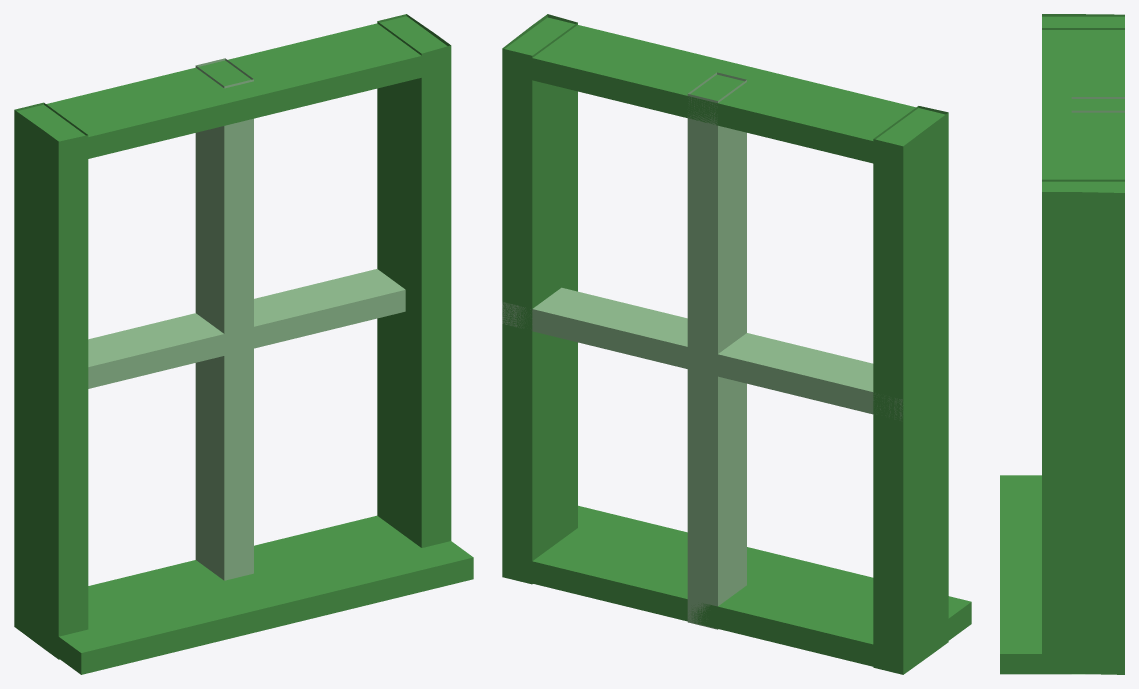
The model's file is SM_WindowFrame_withoutGlass.fbx.
The picture shows the model from 3 angles, left to right: view 1: azimuth 30°, elevation 25°; view 2: azimuth 150°, elevation 25°; view 3: azimuth 270°, elevation 25°; orthographic projection. The views are drawn at different scales.
Visible parts, largest first — view 1: SM_WindowFrameWithoutGlass; view 2: SM_WindowFrameWithoutGlass; view 3: SM_WindowFrameWithoutGlass.
Part boxes in pixels (<box>): SM_WindowFrameWithoutGlass: <box>14,14,473,674</box>; SM_WindowFrameWithoutGlass: <box>502,14,971,674</box>; SM_WindowFrameWithoutGlass: <box>1000,14,1124,674</box>.
Bounding box in the file's own units: 110 × 139 × 32.48.
